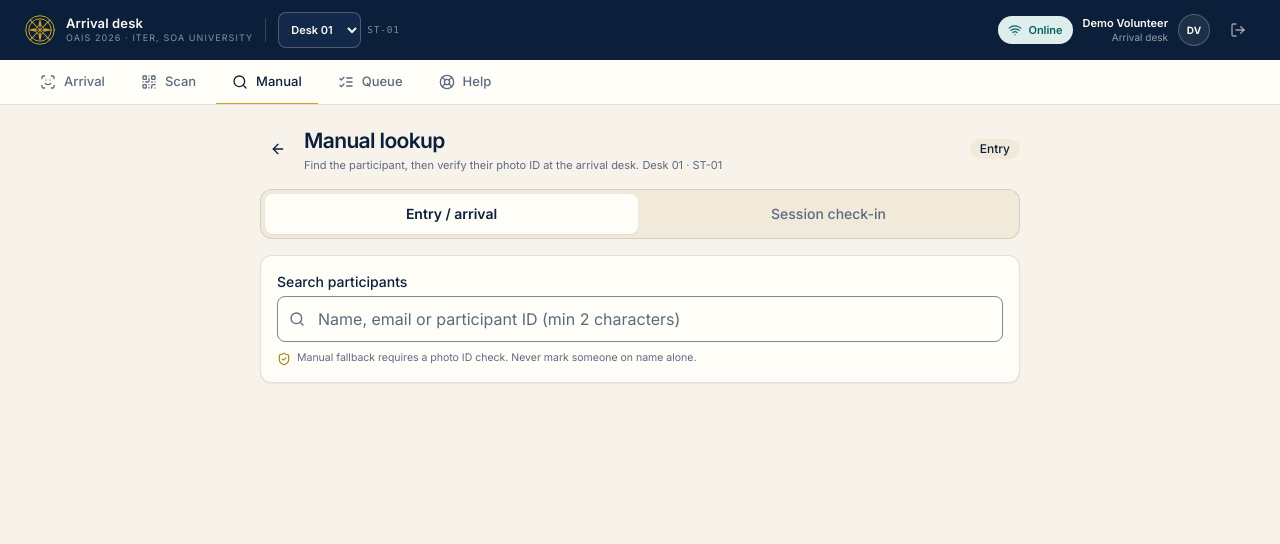
Test: Manual lookup (§7.5/§7.6) › finds a participant and hands them to the arrival desk
The width and height of the screenshot is (1280, 544).
In the field labelled "Search participants": (640, 319) left=277, top=296, right=1003, bottom=342, type "As"
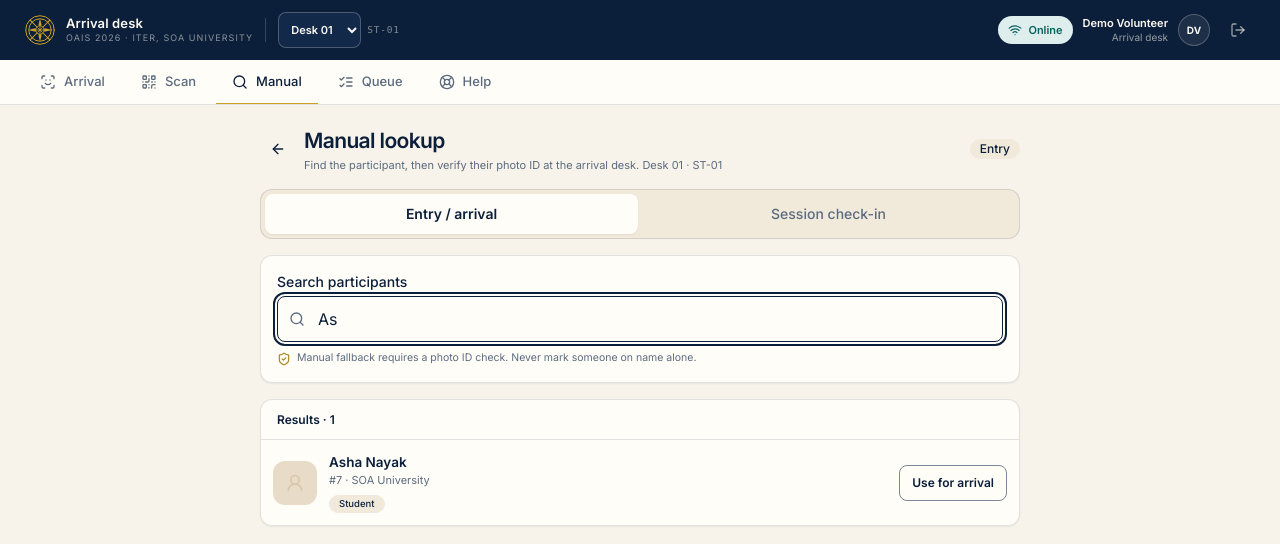
Expected: the text "Asha Nayak" is shown, left=329, top=454, right=407, bottom=470
